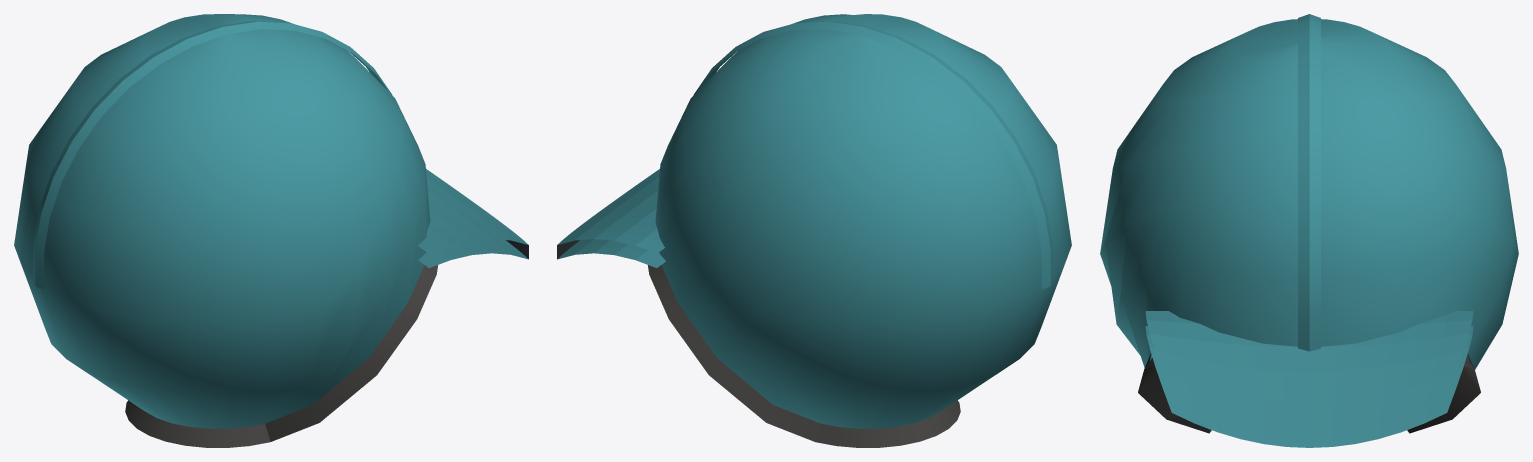
The model's file is SM_C26_Helmet_Hero.fbx.
3 renders of one model, left to right at view 1: azimuth 30°, elevation 25°; view 2: azimuth 150°, elevation 25°; view 3: azimuth 270°, elevation 25°, orthographic. The views are drawn at different scales.
Visible parts, largest first — view 1: SM_C26_Helmet_Hero; view 2: SM_C26_Helmet_Hero; view 3: SM_C26_Helmet_Hero.
Part boxes in pixels (x1,y1,x2,y2): SM_C26_Helmet_Hero: [14, 14, 528, 447]; SM_C26_Helmet_Hero: [557, 14, 1071, 447]; SM_C26_Helmet_Hero: [1100, 14, 1518, 447].
Bounding box in the file's own units: 29.73 × 22.73 × 23.91.
